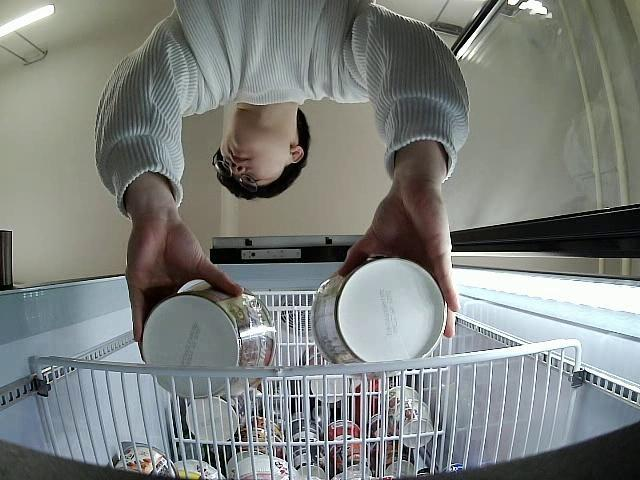03_chapagetti_L: (308, 258, 447, 378), (142, 282, 278, 398)
